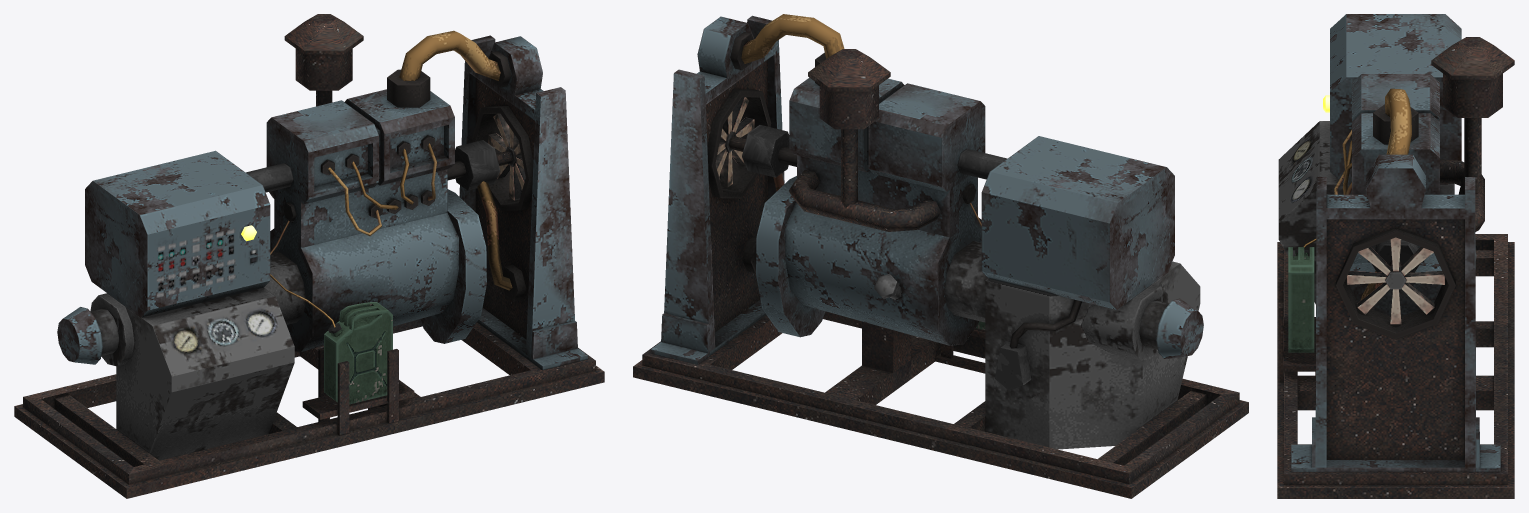
The model's file is generator.fbx.
3 renders of one model, left to right at view 1: azimuth 30°, elevation 25°; view 2: azimuth 150°, elevation 25°; view 3: azimuth 270°, elevation 25°, orthographic. The views are drawn at different scales.
Parts seen in each view (by area): view 1: generator, jerry_can, generator_ventilator; view 2: generator, generator_ventilator; view 3: generator, generator_ventilator, jerry_can.
Boxes of the visible parts, x1,y1,x2,y2 form: generator: [14, 14, 604, 498]; jerry_can: [324, 302, 392, 404]; generator_ventilator: [488, 113, 525, 200]; generator: [633, 14, 1248, 498]; generator_ventilator: [715, 97, 754, 187]; generator: [1277, 14, 1514, 498]; generator_ventilator: [1347, 237, 1444, 324]; jerry_can: [1288, 247, 1314, 352].
Bounding box in the file's own units: 273 × 186 × 111.
Materials: 3 (2 with a texture image).
